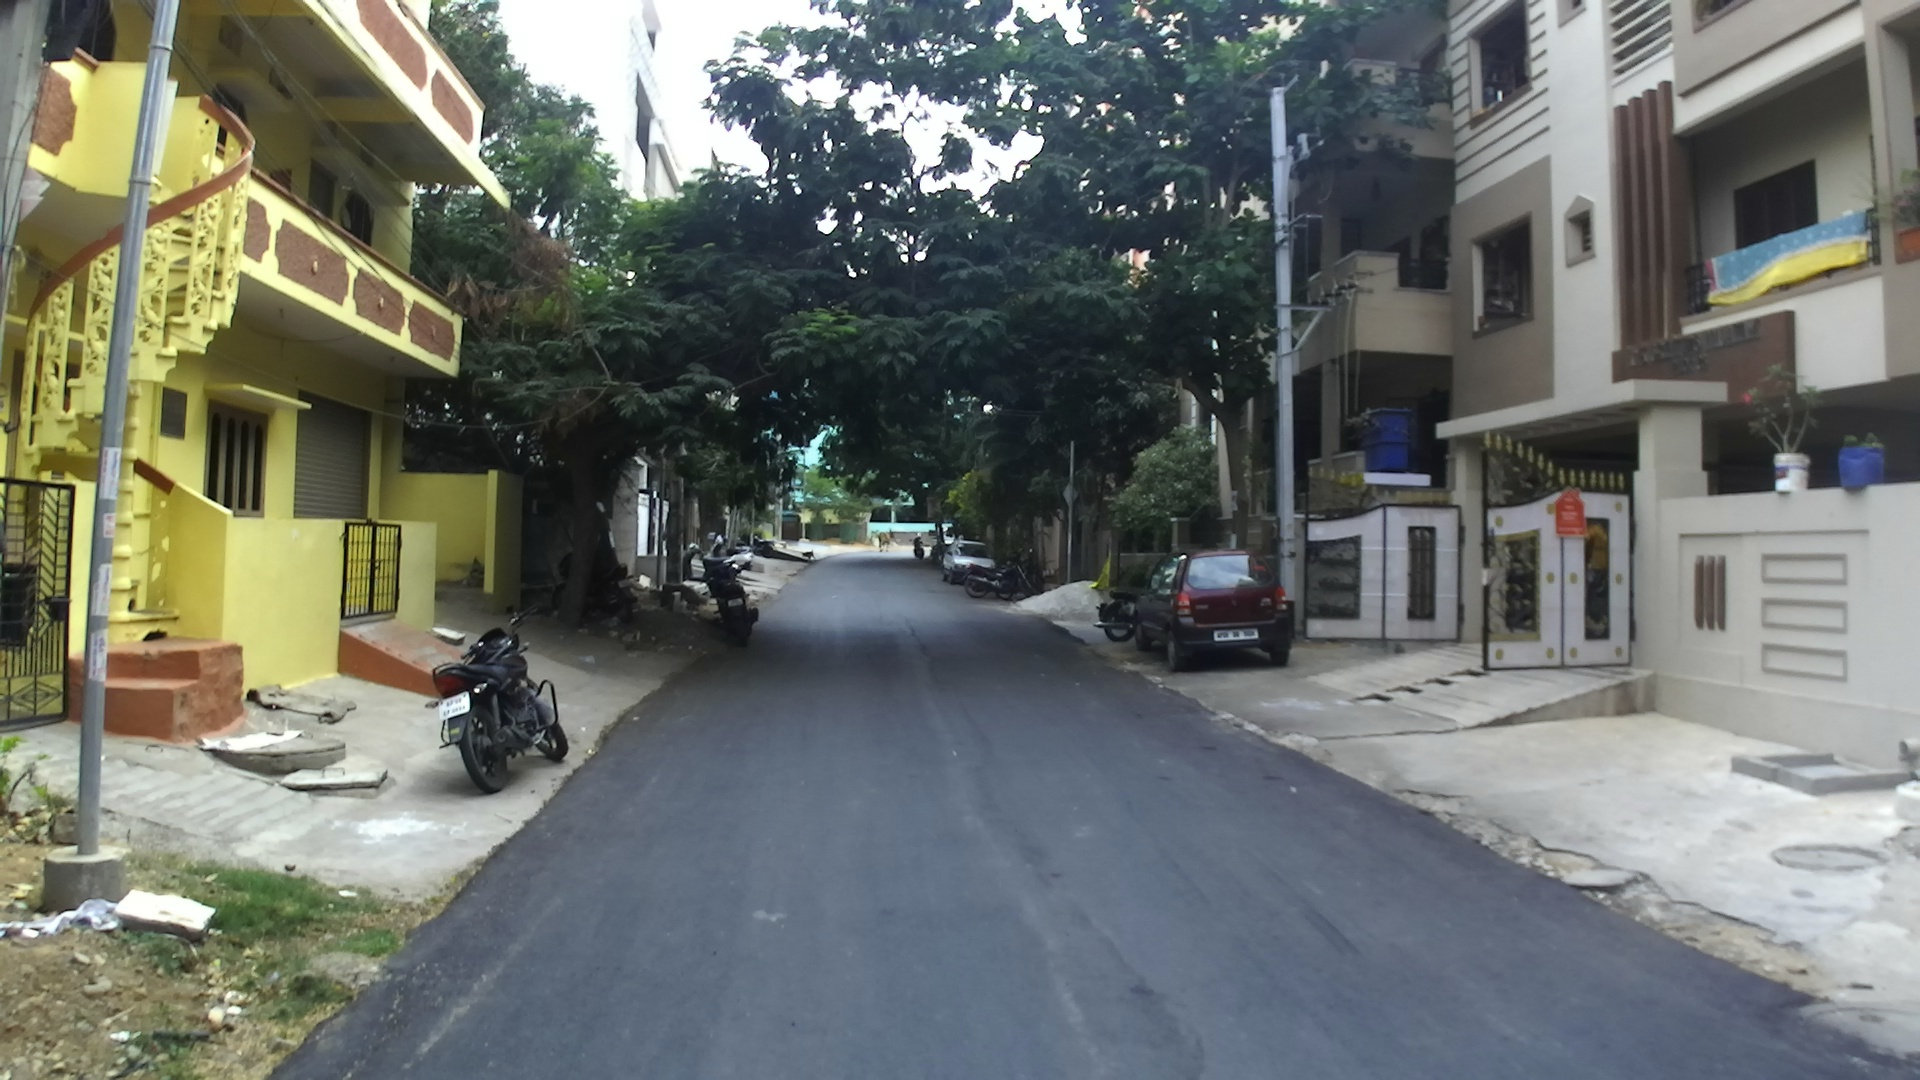vehicle: (433, 615, 568, 793), (1118, 550, 1296, 669), (705, 555, 761, 646), (943, 545, 1005, 592), (777, 543, 814, 563)
